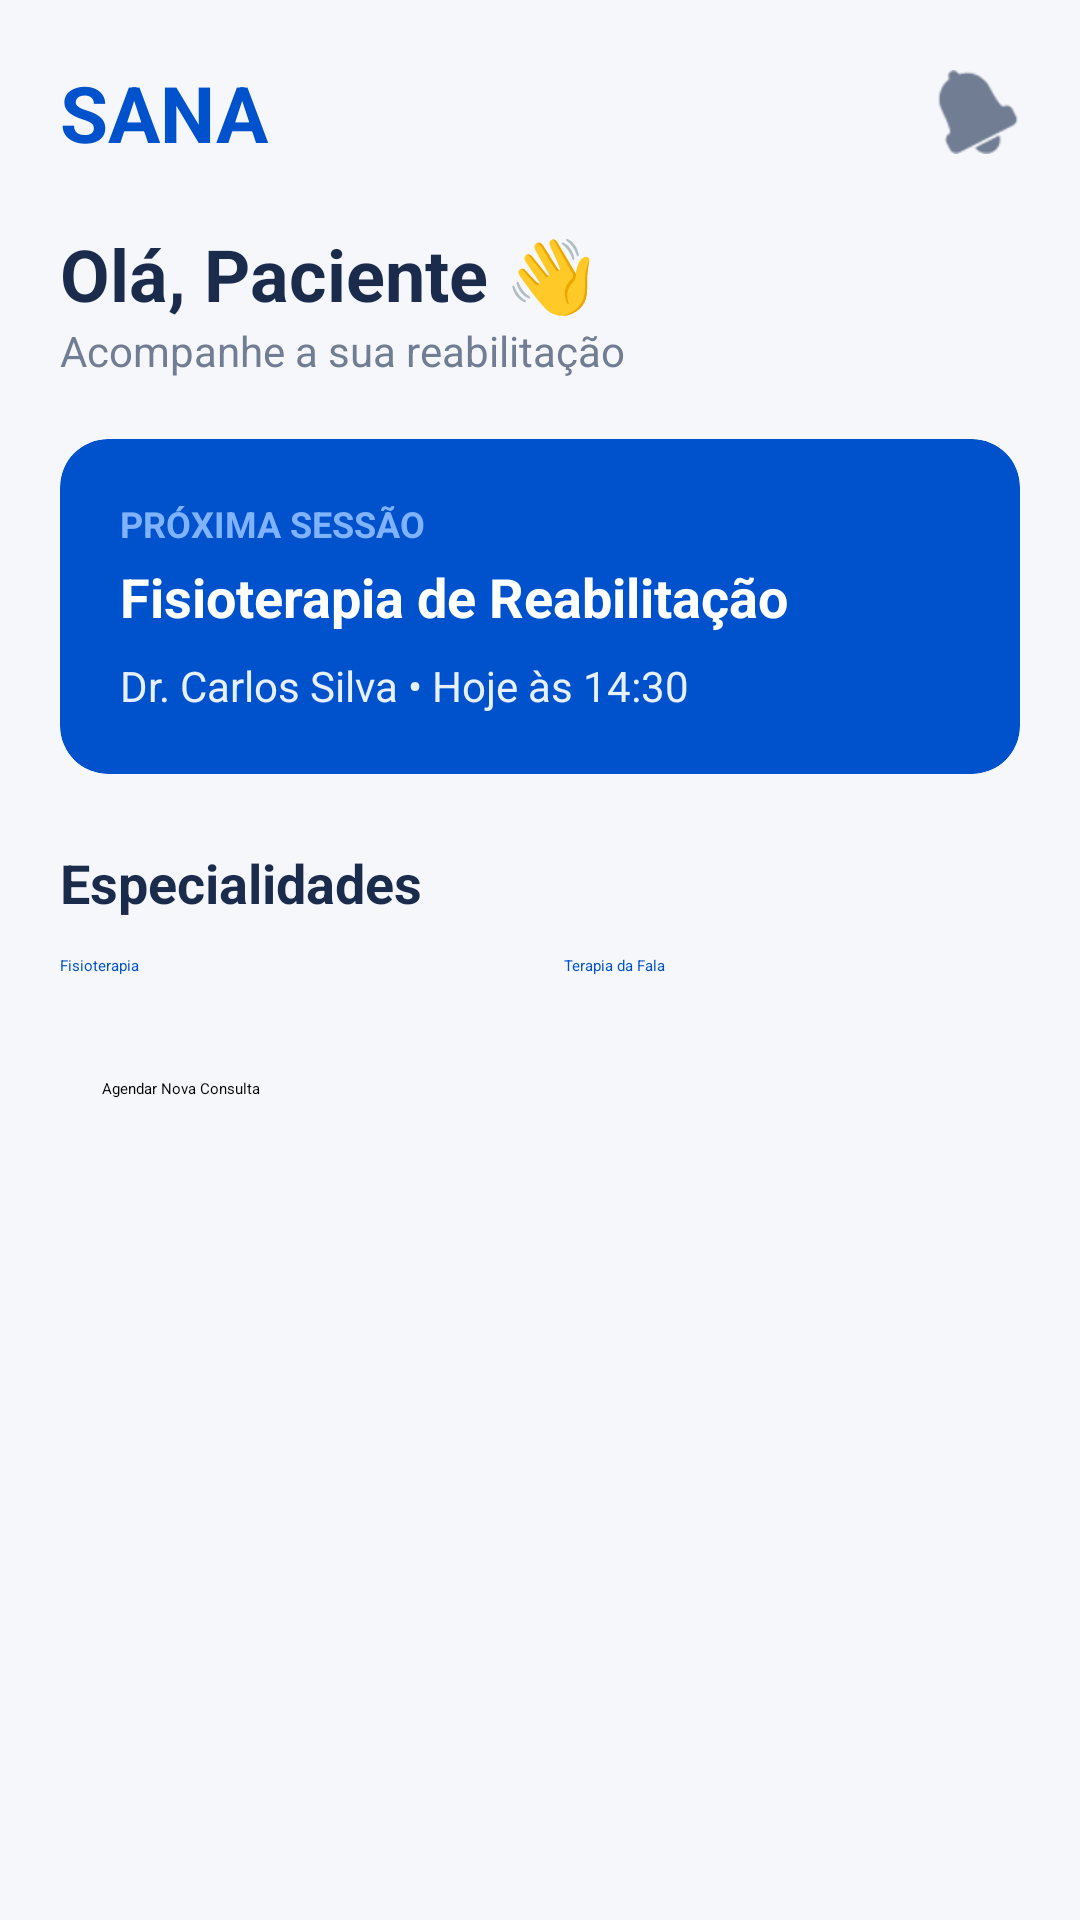

Icon click points for this 1080 × 1920 phone screenshot, format (x=x, y=y):
popup reminder: (x=978, y=112)
